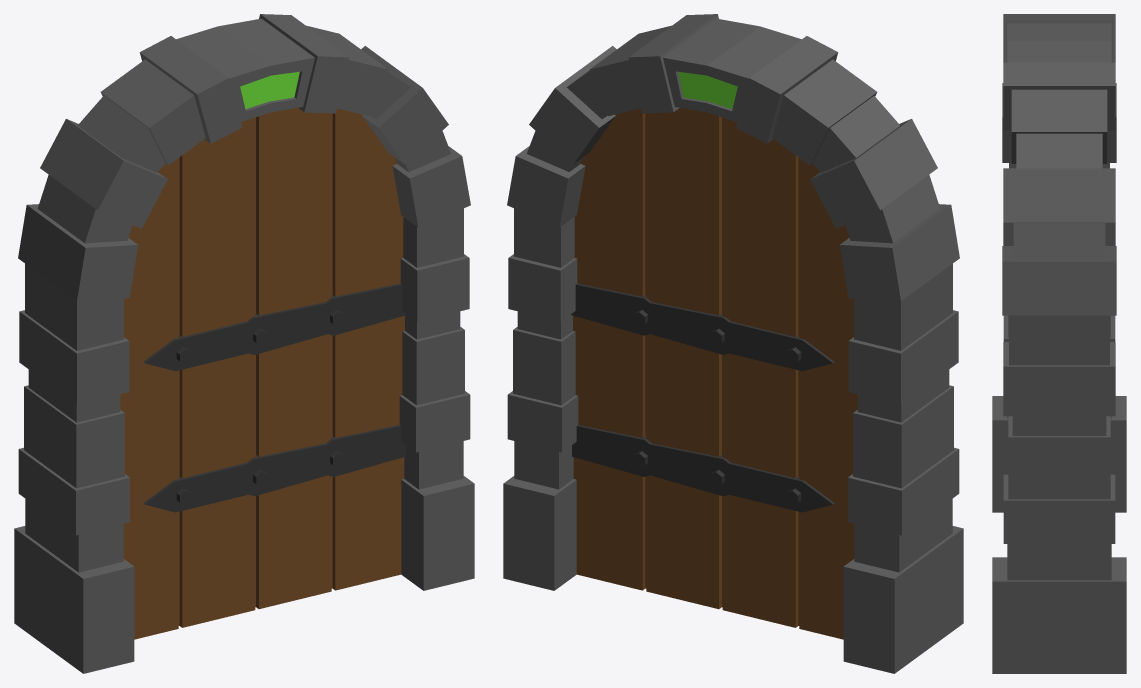
The model's file is Door.fbx.
3 views of the same model, side by side, from view 1: azimuth 30°, elevation 25°; view 2: azimuth 150°, elevation 25°; view 3: azimuth 270°, elevation 25° (orthographic). The views are drawn at different scales.
Parts seen in each view (by area): view 1: Cube.038, DoorFrame.003; view 2: Cube.038, DoorFrame.003; view 3: DoorFrame.003.
Part boxes in pixels (box(x1,y1,x2,y2)): Cube.038: box(120, 108, 406, 639); DoorFrame.003: box(14, 14, 474, 673); Cube.038: box(571, 108, 857, 639); DoorFrame.003: box(503, 14, 963, 673); DoorFrame.003: box(992, 14, 1126, 673).
Size of the model in its own units: 4.09 by 1.24 by 5.5.
